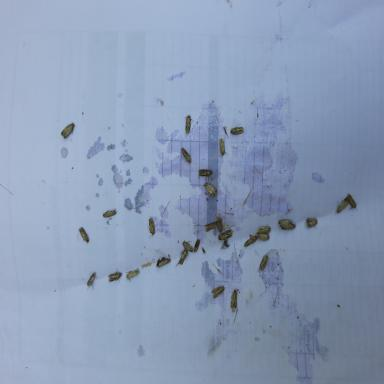pbw: (228, 287, 241, 311), (278, 214, 292, 234), (217, 227, 234, 243), (61, 121, 76, 138), (108, 268, 123, 284), (175, 249, 189, 266), (242, 233, 257, 248), (147, 216, 157, 238), (346, 193, 358, 211), (86, 272, 97, 291), (184, 114, 194, 134), (78, 225, 89, 243), (211, 285, 225, 299), (336, 198, 349, 213), (181, 146, 192, 163), (204, 182, 217, 196), (156, 256, 170, 268), (219, 138, 228, 156), (126, 269, 140, 280), (182, 240, 194, 252), (259, 254, 268, 270), (230, 126, 245, 135), (205, 222, 217, 232), (256, 232, 270, 240), (102, 209, 116, 217), (194, 238, 201, 253), (305, 218, 318, 226), (258, 226, 270, 234), (198, 170, 213, 176), (217, 215, 222, 232), (281, 224, 296, 229)
